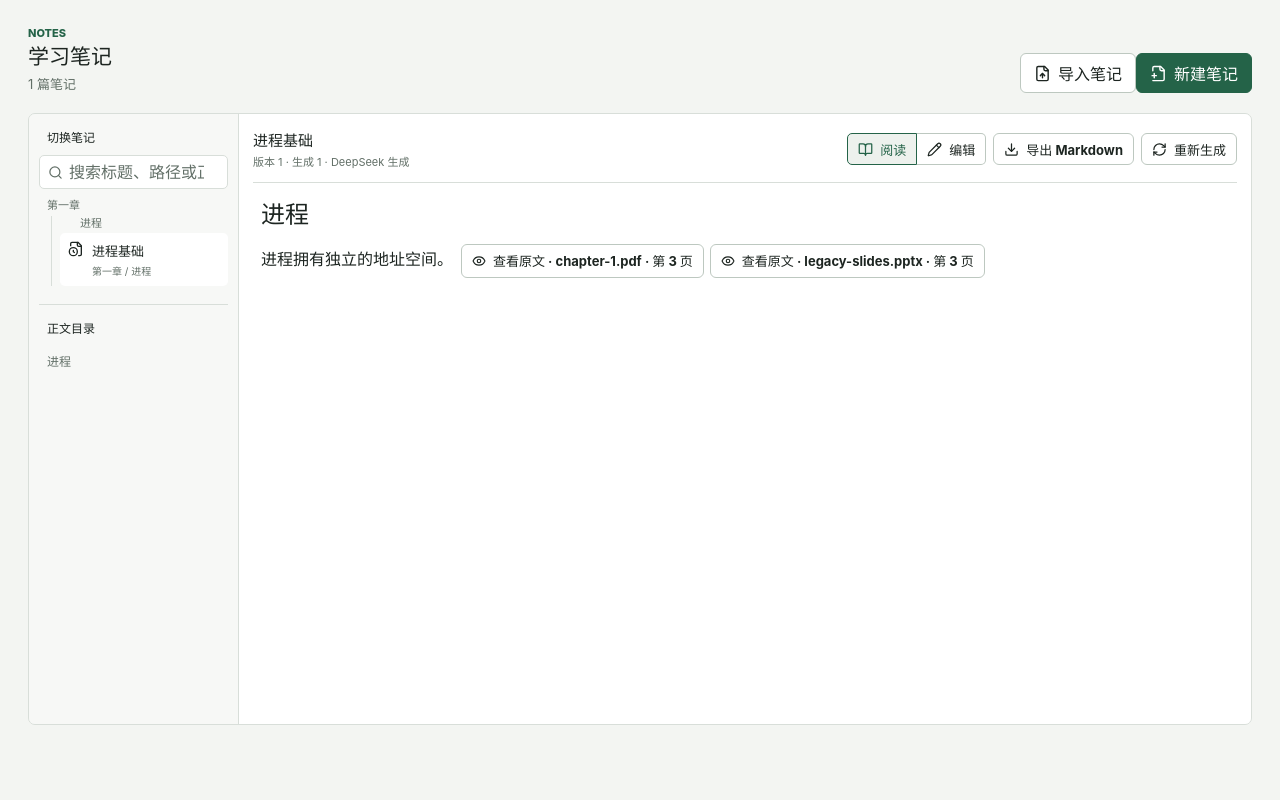
it: NotesPage › shows a preview failure beside the note source that was opened
Step 1. Click the button "查看原文 · legacy-slides.pptx · 第 3 页" → (847, 261), box [710,244,985,278]
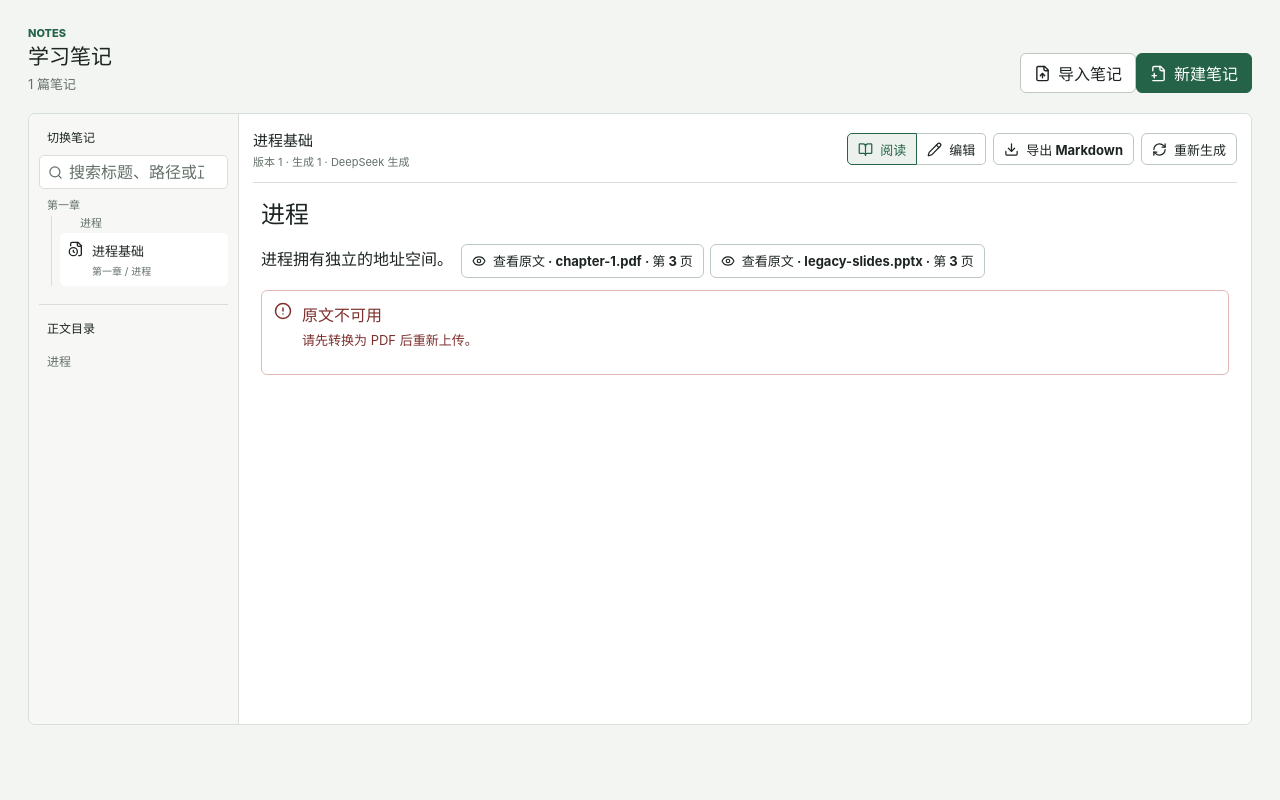
Now the message shows "请先转换为 PDF 后重新上传。", box [302,332,478,348]
